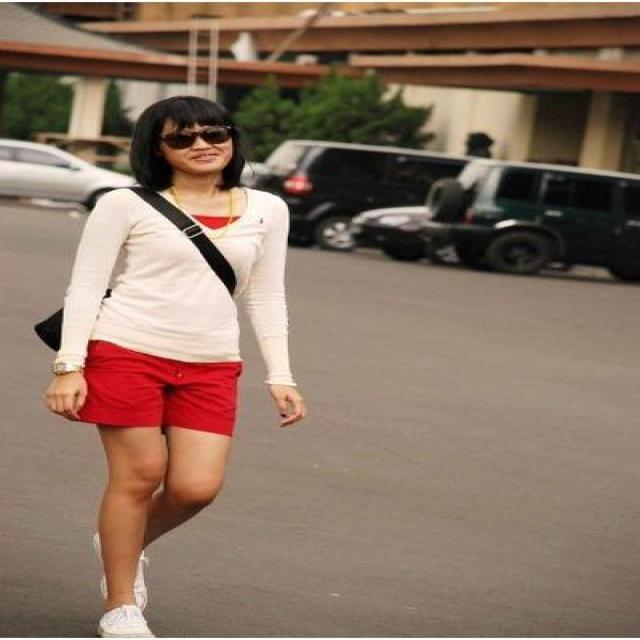bag: (35, 198, 235, 351)
shirt: (54, 188, 294, 384)
shoe: (96, 576, 171, 639)
shorts: (80, 339, 240, 447)
